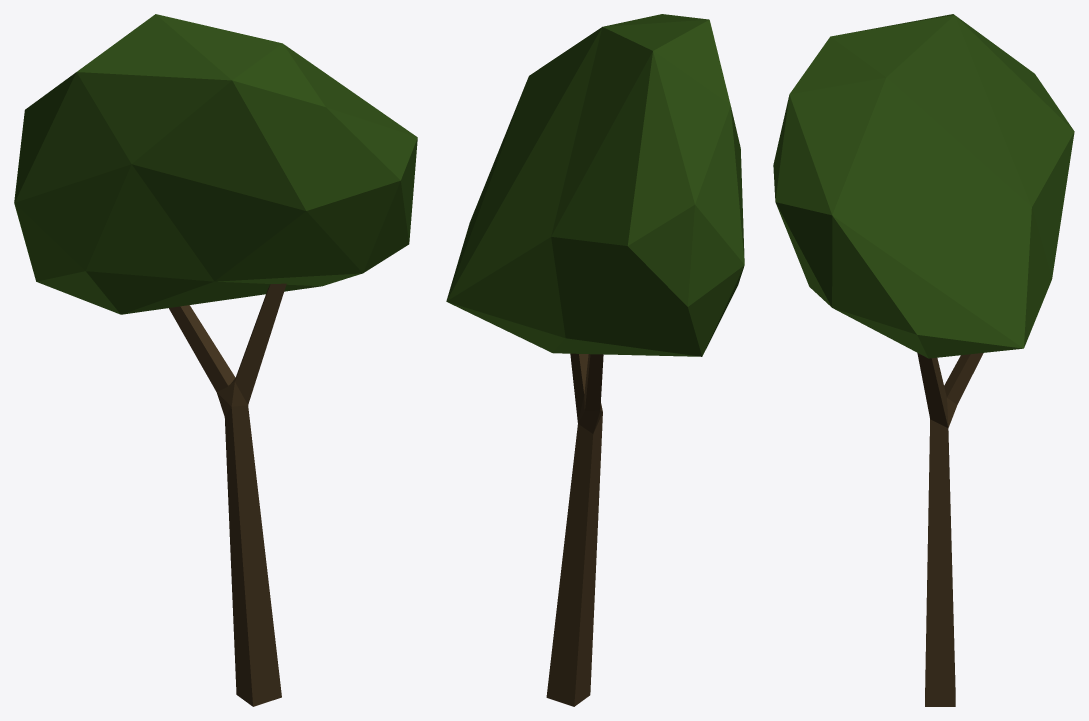
Rendered from Tree.003.fbx.
3 views of the same model, side by side, from view 1: azimuth 30°, elevation 25°; view 2: azimuth 150°, elevation 25°; view 3: azimuth 270°, elevation 25° (orthographic). The views are drawn at different scales.
Visible parts, largest first — view 1: Tree.003; view 2: Tree.003; view 3: Tree.003.
Part boxes in pixels (x1,y1,x2,y2): Tree.003: (14, 14, 417, 706); Tree.003: (446, 14, 744, 706); Tree.003: (773, 14, 1074, 706).
Size of the model in its own units: 442 by 899 by 381.
